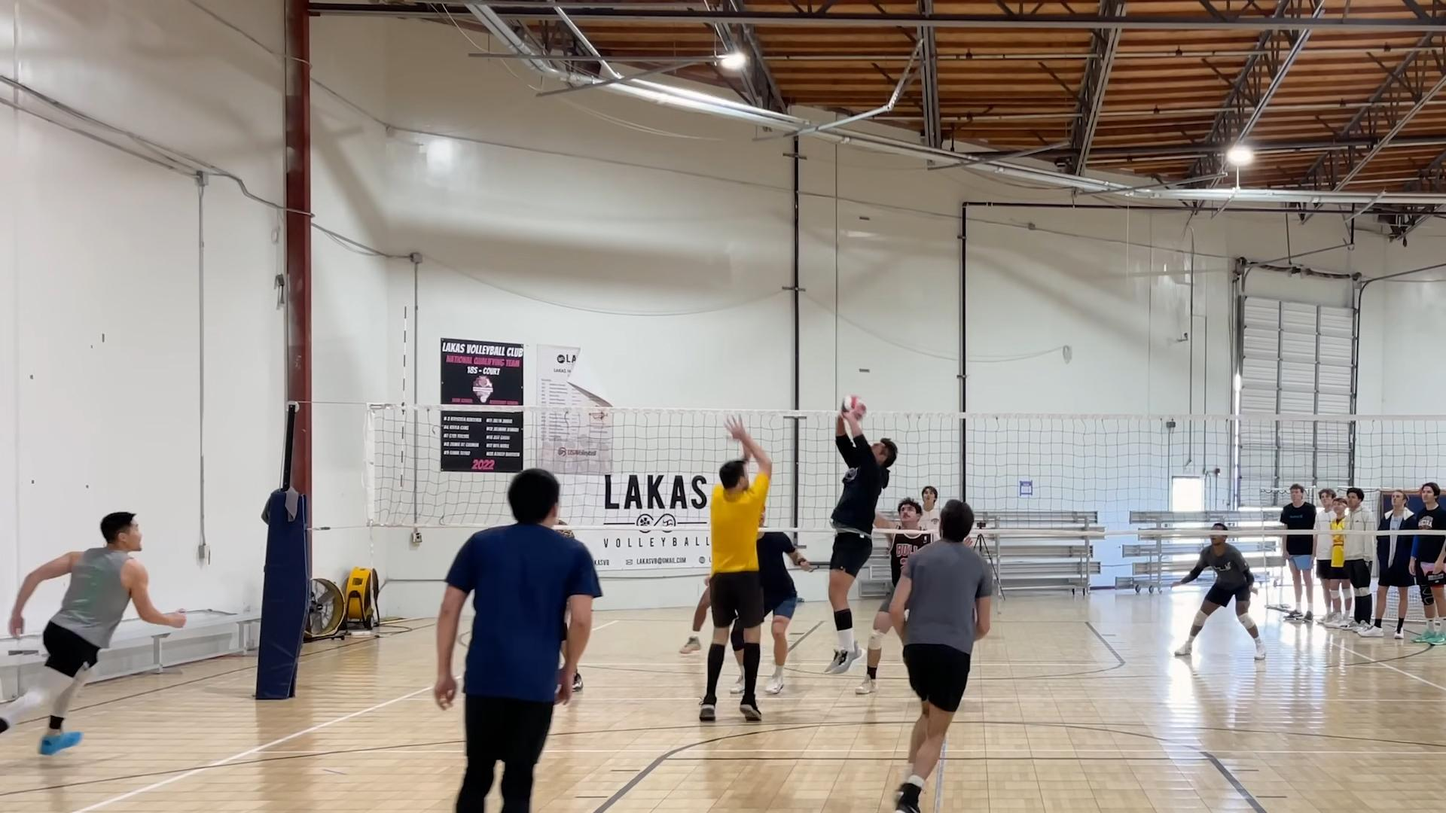alzata: (824, 412, 897, 674)
